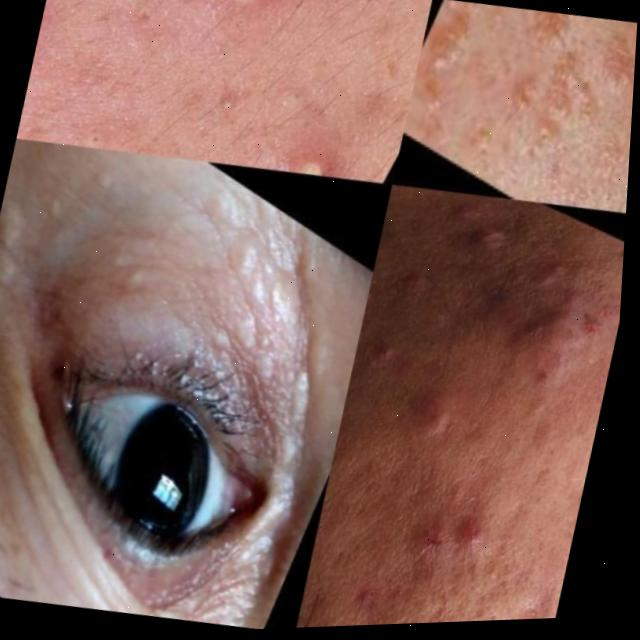Acne: (8, 184, 339, 424), (387, 258, 623, 568), (108, 0, 383, 132), (480, 2, 638, 155)
